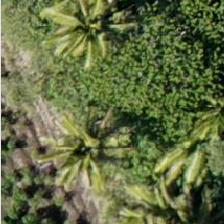Kelapa_Sawit: (34, 101, 124, 191), (55, 0, 145, 88), (160, 110, 223, 201)
